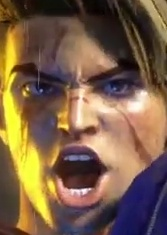kevin: (14, 20, 166, 234)
